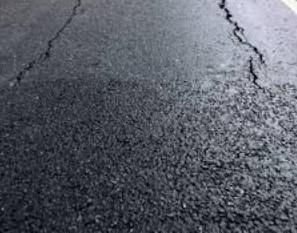crack: (14, 3, 92, 82), (211, 2, 277, 88)
